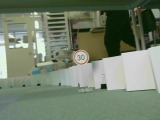speed_30: (71, 49, 90, 66)
